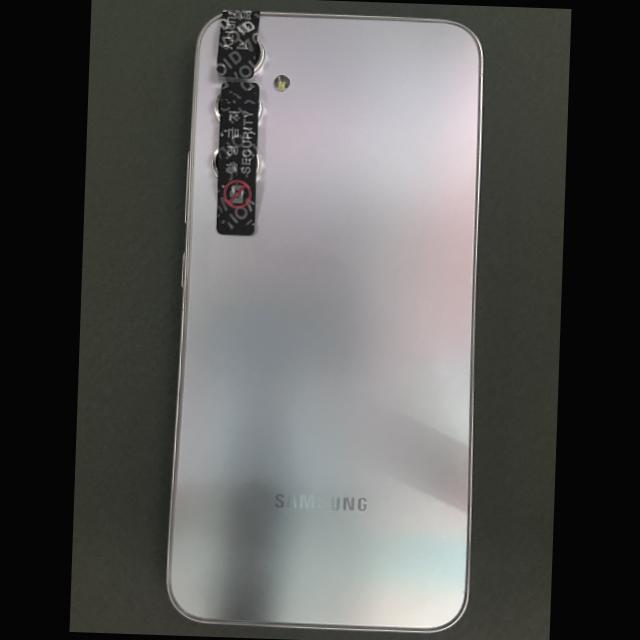lens: (254, 39, 264, 72), (212, 148, 219, 178), (215, 93, 221, 123)
phone: (168, 11, 482, 630)
sticker: (215, 81, 259, 236), (216, 10, 260, 79)
